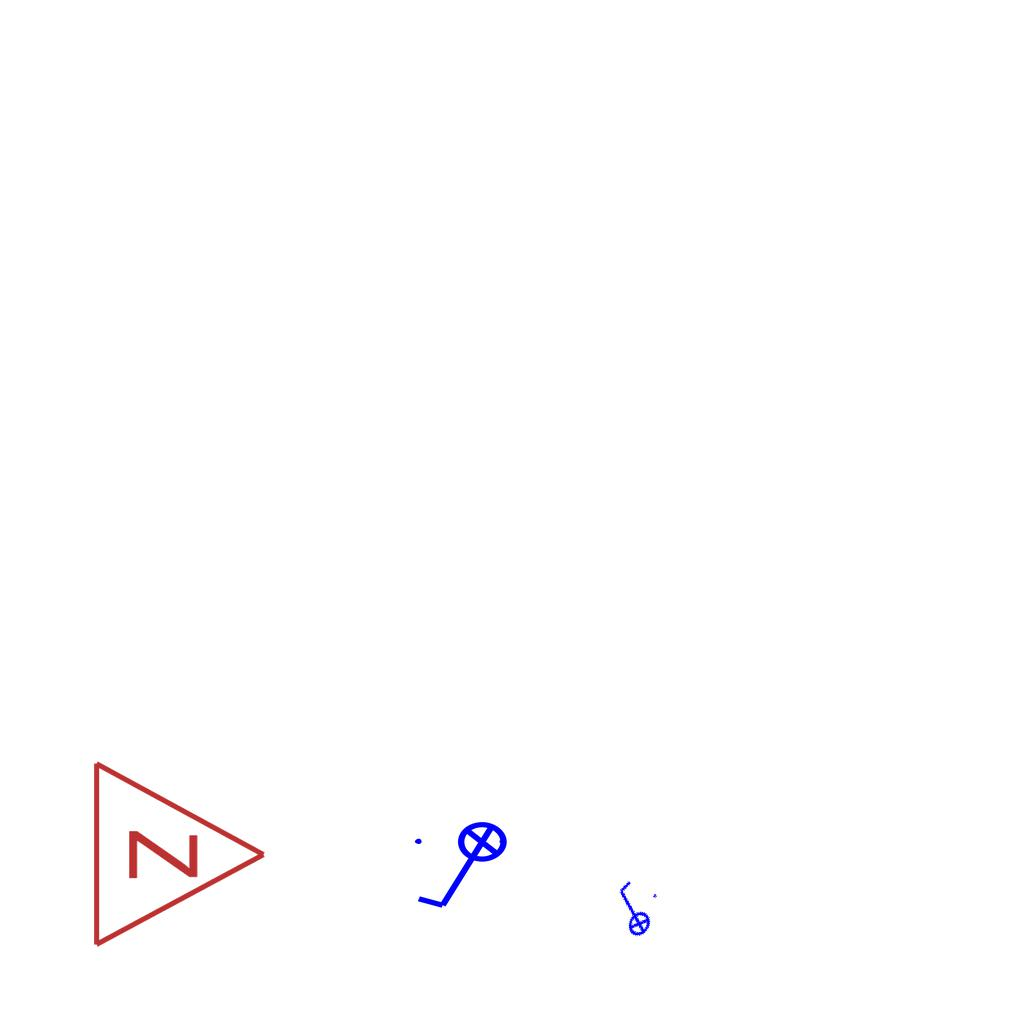Ausschalter_beleuchtet: (409, 820, 521, 916), (597, 873, 667, 947)
Zimmersignalleuchte: (79, 754, 279, 950)
